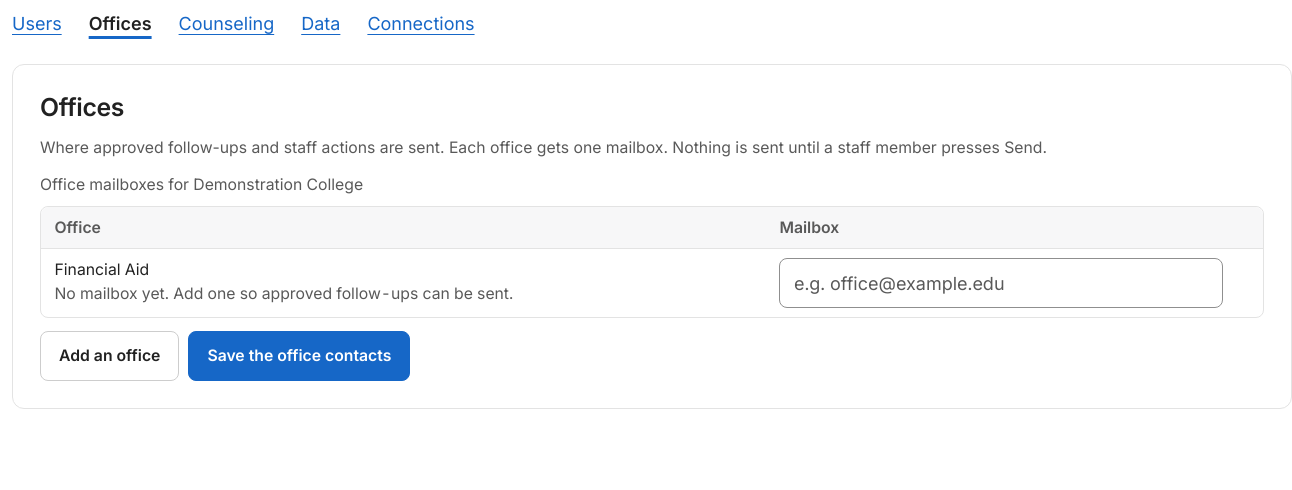
Test: Institution Offices — validation › shows an invalid mailbox error under the field and sends nothing
Type "financial-aid" into the field named "Mailbox for Financial Aid". click: (1001,283)
box: [779,258,1222,308]
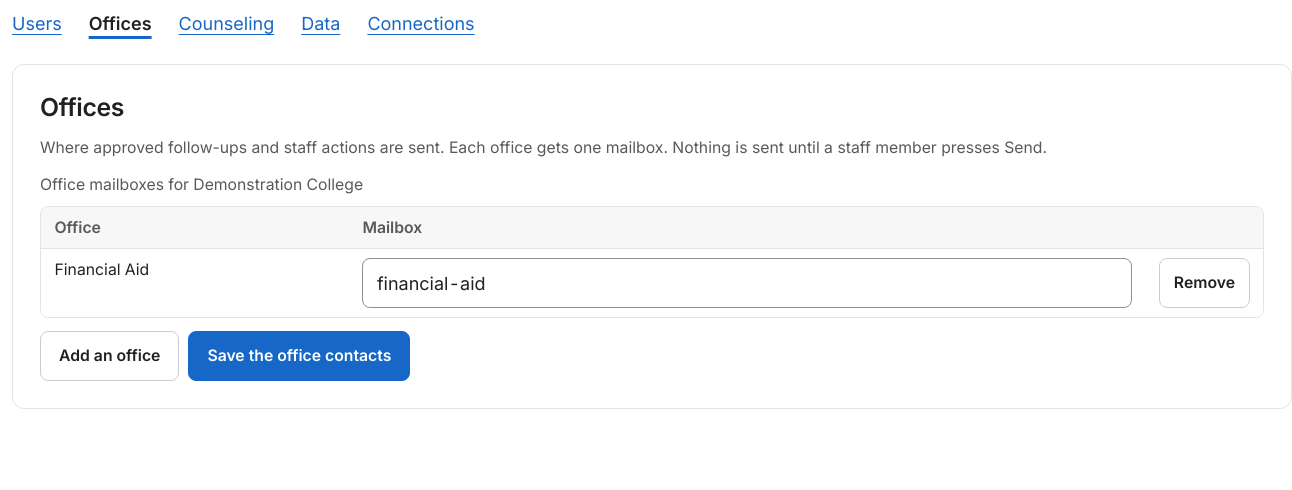
Click the button "Save the office contacts". click: (299,356)
box: [188,331,410,381]
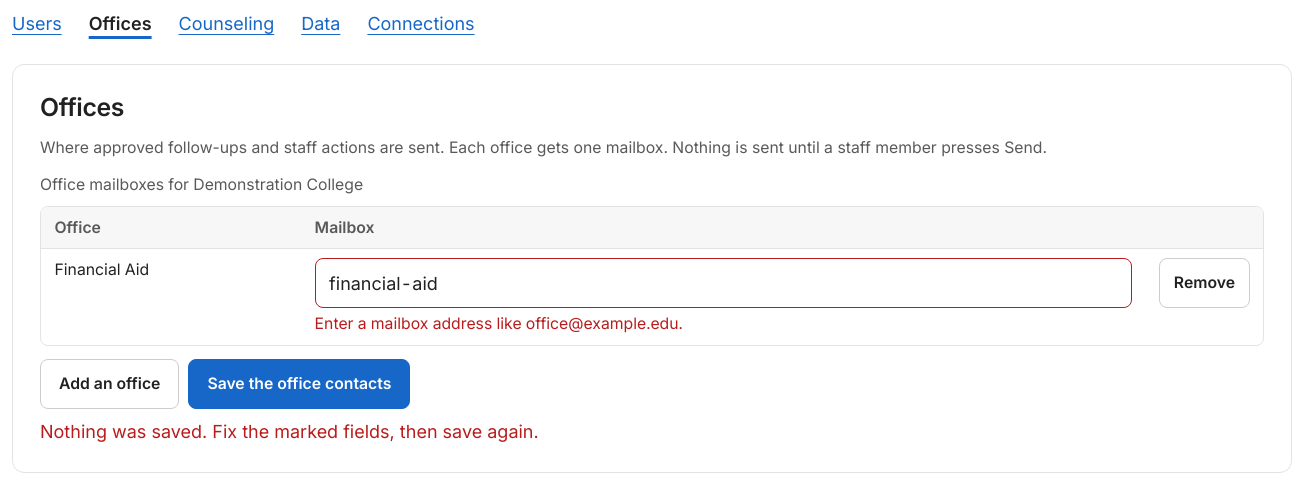
Expected: the text "Nothing was saved. Fix the marked fields, then save again." is shown, [40,421,539,442]
# Editing the field clears its error.
Replace the text in the field named "Mailbox for Financial Aid" with "financial-aid@example.edu". click: (724,283)
box: [315,258,1132,308]
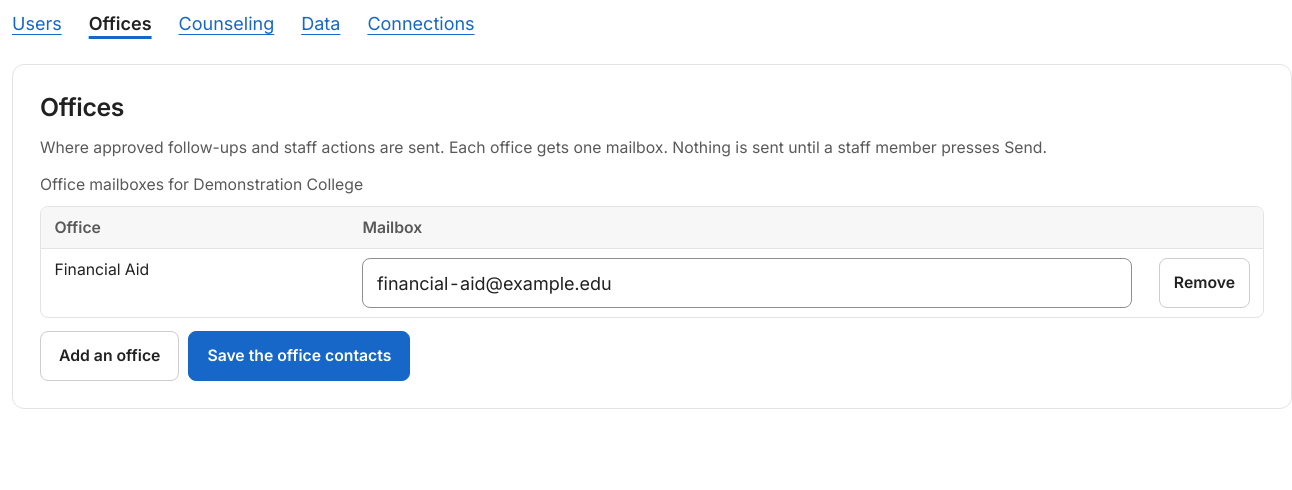
Expected: the text "Enter a mailbox address like office@example.edu." is gone
